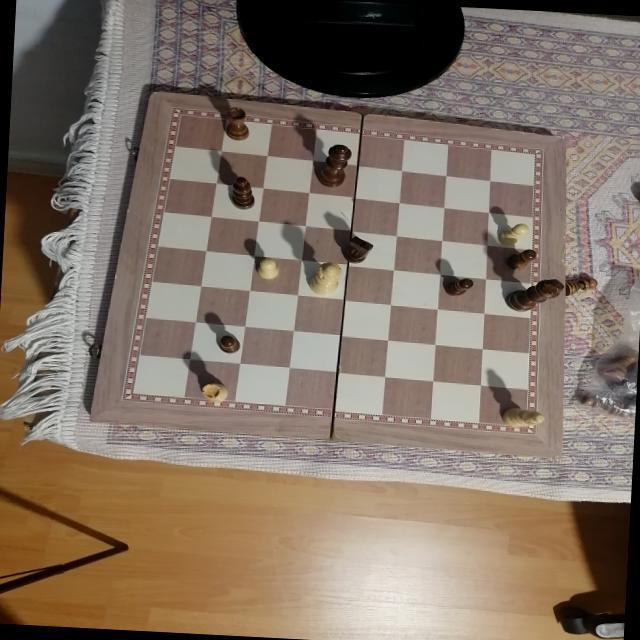corners: (138, 81, 166, 104), (552, 126, 572, 155), (78, 406, 104, 424), (549, 452, 574, 468)
